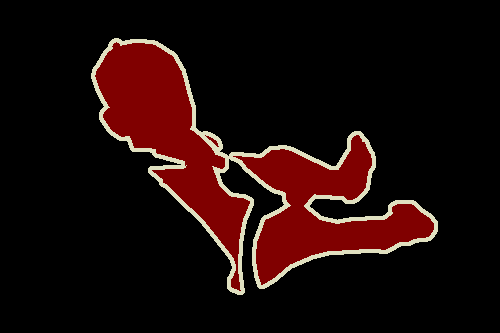person: (82, 35, 442, 294)
person/foot: (334, 133, 373, 202), (391, 202, 437, 242)
person/hand: (155, 128, 205, 164), (255, 154, 291, 181)
person/head: (92, 41, 195, 150)
